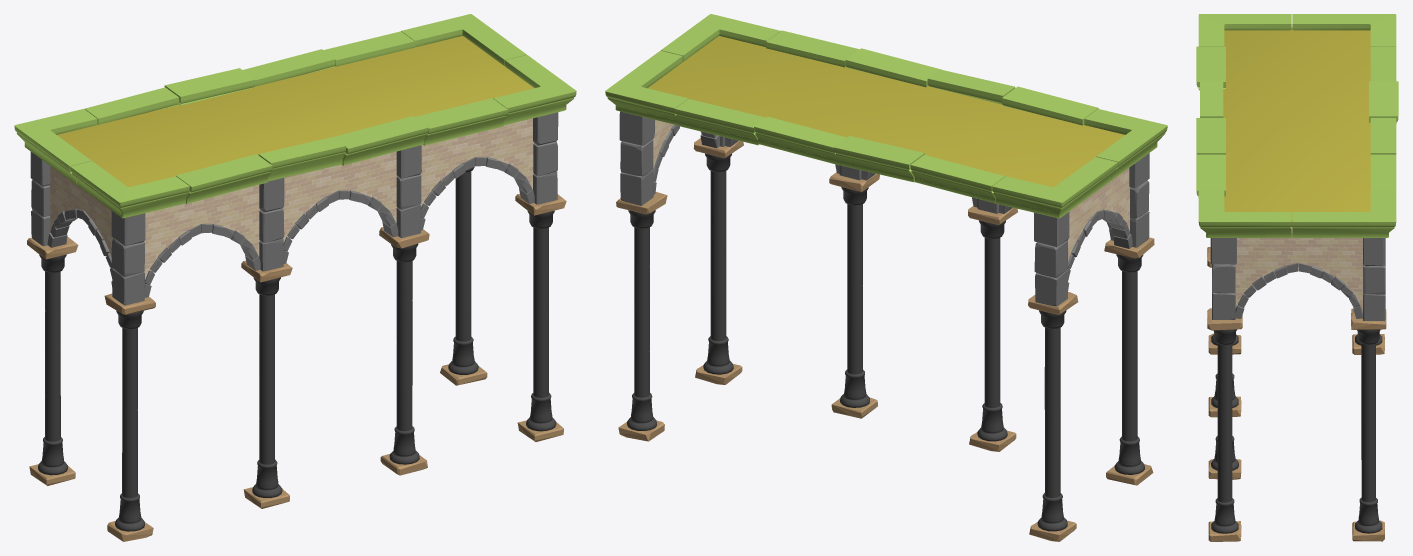
Rendered from SM_arch_preset_01.fbx.
3 renders of one model, left to right at view 1: azimuth 30°, elevation 25°; view 2: azimuth 150°, elevation 25°; view 3: azimuth 270°, elevation 25°, orthographic. The views are drawn at different scales.
Visible parts, largest first — view 1: Cylinder424438; view 2: Cylinder424438; view 3: Cylinder424438.
Boxes of the visible parts, bbox=[...] form: Cylinder424438: bbox=[14, 14, 576, 541]; Cylinder424438: bbox=[605, 14, 1167, 541]; Cylinder424438: bbox=[1196, 14, 1398, 541].
Bounding box in the file's own units: 424 × 309 × 174.
